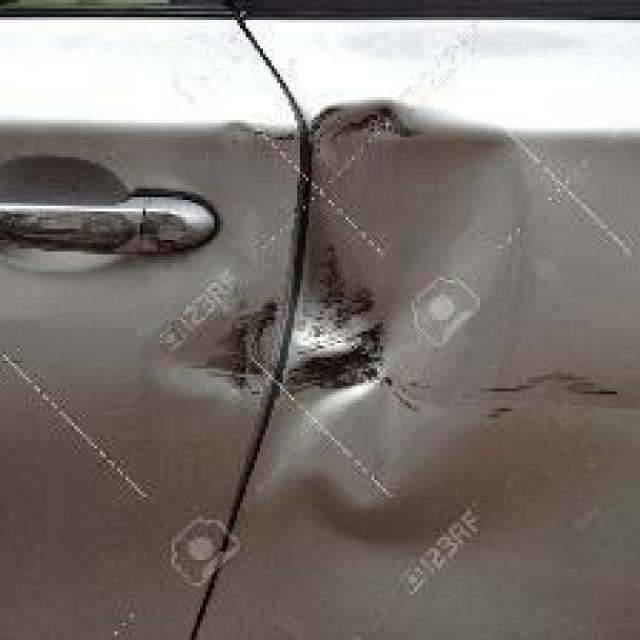damaged: (212, 100, 428, 440), (466, 361, 634, 428), (0, 202, 194, 254)
